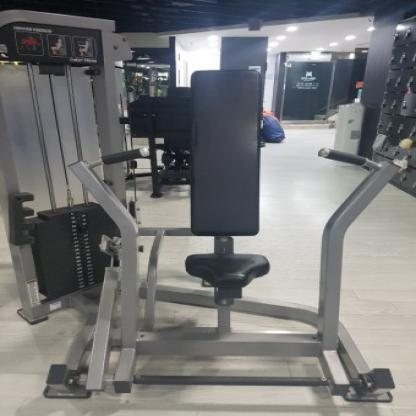Chest Press machine: (0, 6, 410, 416)
